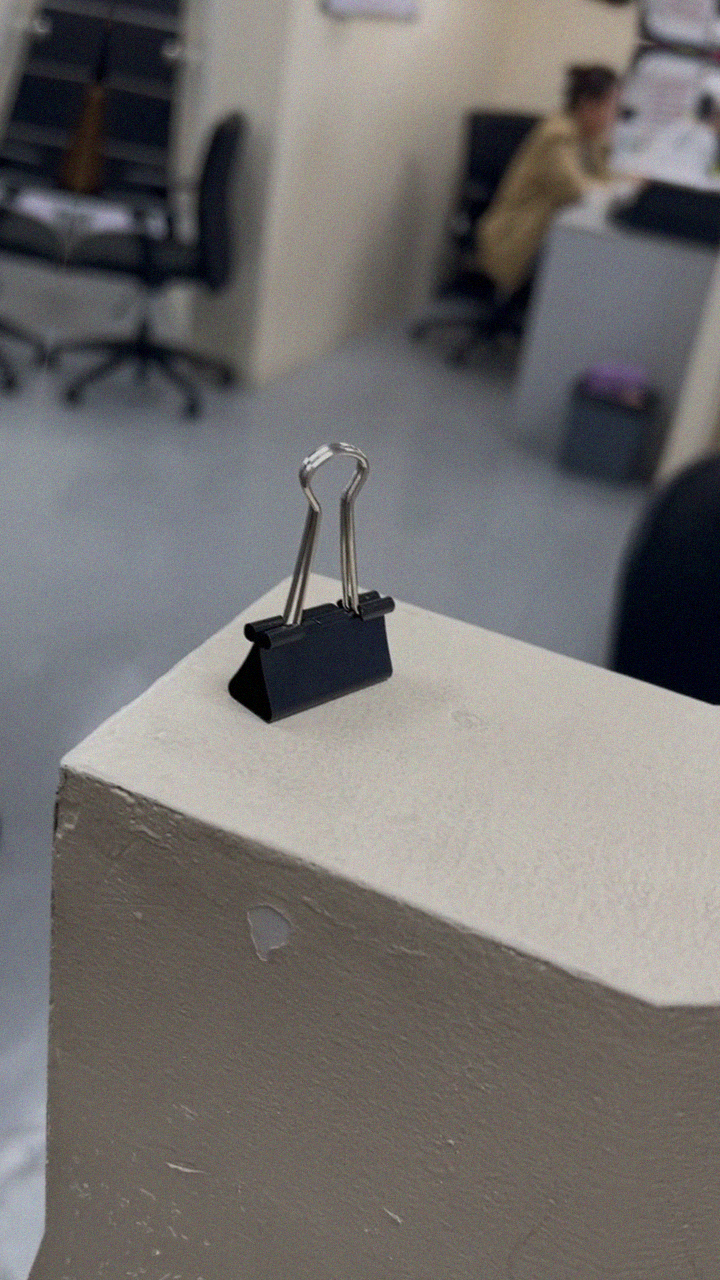kep_giay: (217, 426, 436, 748)
